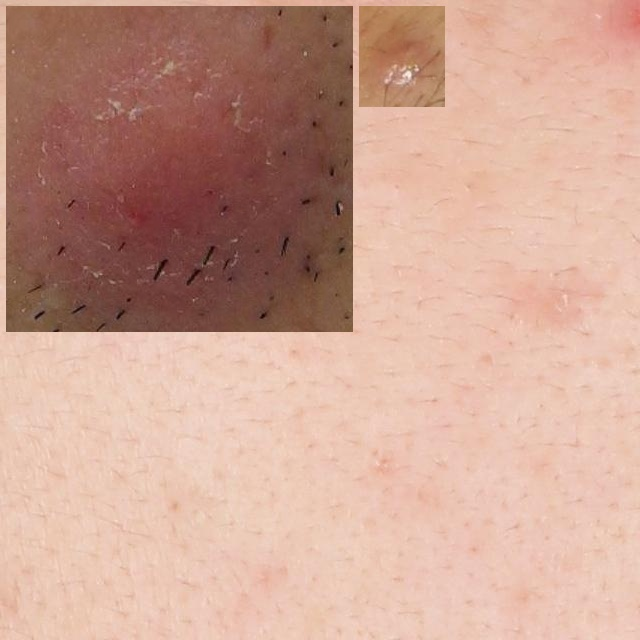nodule: (14, 14, 345, 324), (367, 14, 437, 99)
